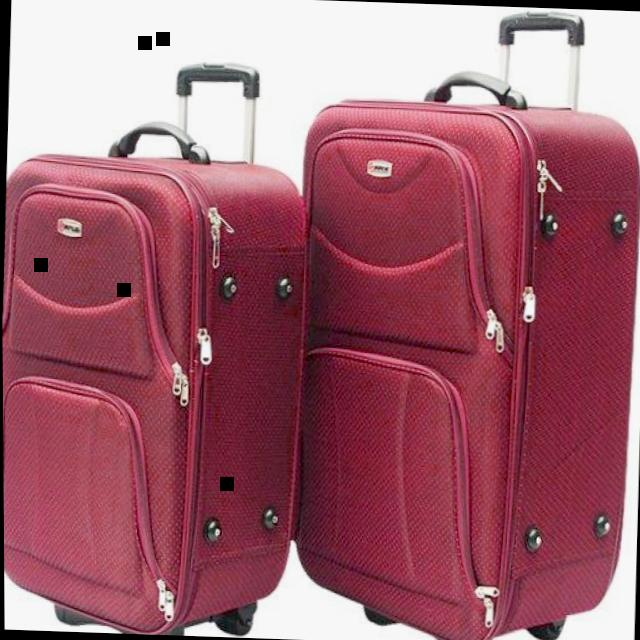luggage: (277, 82, 640, 640), (1, 116, 325, 638)
